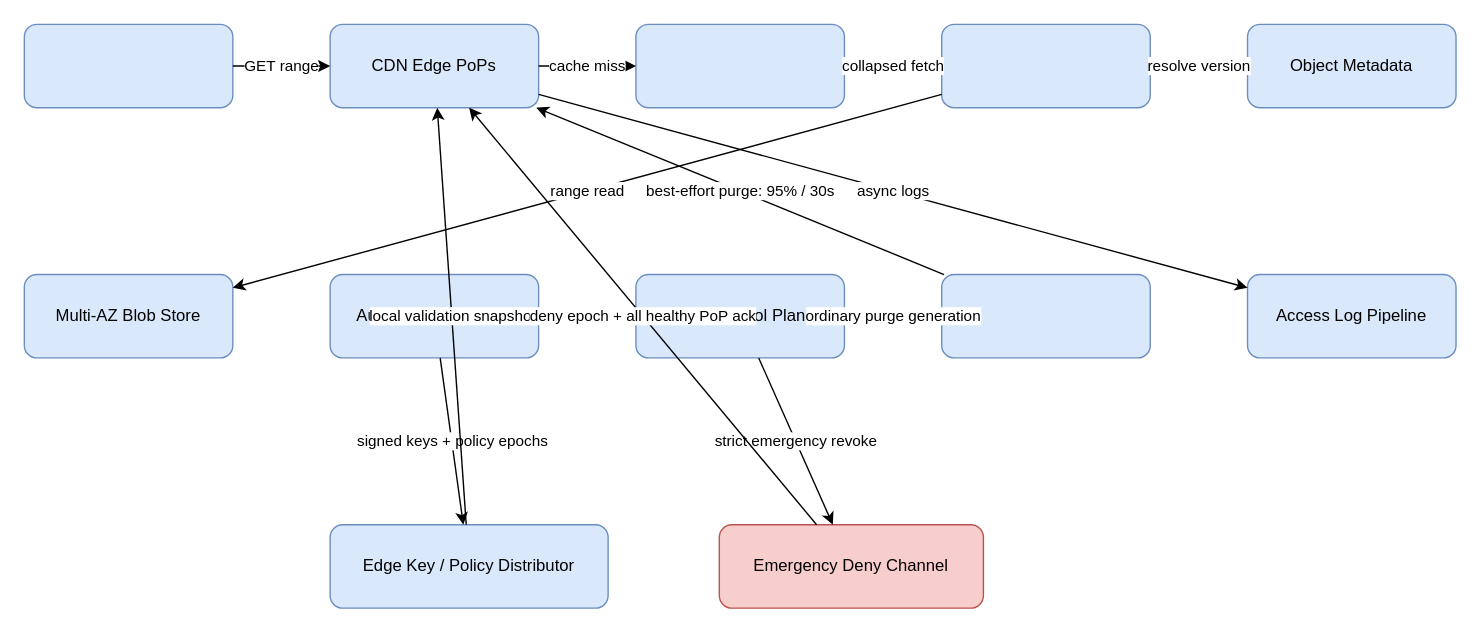
Some shapes in this 1480 by 632 pixel diagram are drawn without their labels. Each missing label, with the box of its shape:
End Users: (23, 23, 233, 108)
Origin API: (940, 23, 1150, 108)
Purge Event Bus: (940, 273, 1150, 358)
Regional Shield: (635, 23, 844, 108)
